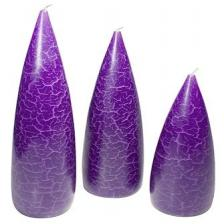purple: (11, 10, 76, 218), (83, 30, 144, 198), (150, 74, 215, 217)
